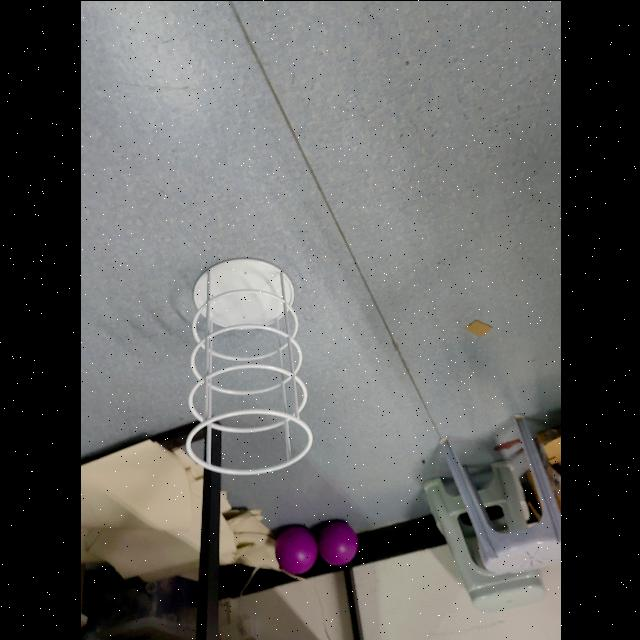S: (182, 251, 318, 479)
